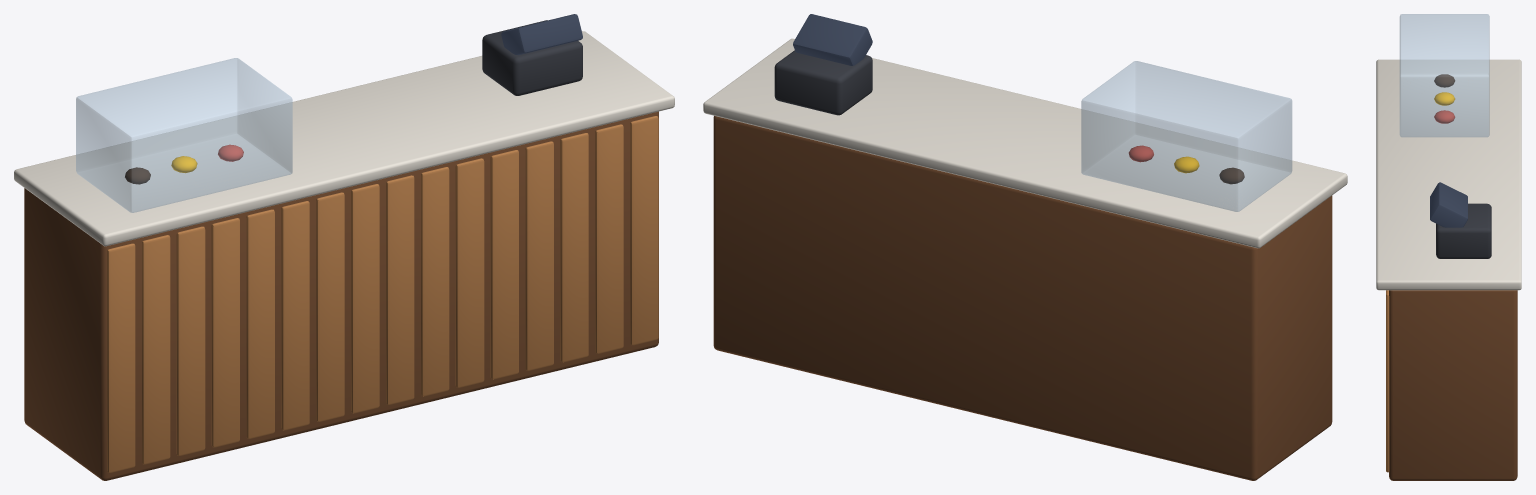
Rendered from balcao.glb.
3 views of the same model, side by side, from view 1: azimuth 30°, elevation 25°; view 2: azimuth 150°, elevation 25°; view 3: azimuth 270°, elevation 25° (orthographic). The views are drawn at different scales.
Parts seen in each view (by area): view 1: Cube.017, Cube, Cube.018, Cube.011, Cube.003, Cube.005, Cube.004, Cube.006, Cube.012, Cube.013, Cube.016, Cube.007 (+9 smaller); view 2: Cube, Cube.017, Cube.018, Cube.019, Cube.020; view 3: Cube.017, Cube, Cube.018, Cube.019, Cube.020, Cube.016, Icosphere.001, Icosphere, Icosphere.002.
Boxes of the visible parts, left/top/right/bottom form: Cube.017: left=14, top=31, right=674, bottom=246; Cube: left=24, top=111, right=658, bottom=480; Cube.018: left=76, top=58, right=292, bottom=212; Cube.011: left=455, top=158, right=484, bottom=387; Cube.003: left=176, top=226, right=205, bottom=455; Cube.005: left=246, top=209, right=274, bottom=438; Cube.004: left=211, top=218, right=239, bottom=447; Cube.006: left=281, top=201, right=309, bottom=430; Cube.012: left=490, top=150, right=518, bottom=379; Cube.013: left=525, top=141, right=553, bottom=370; Cube.016: left=630, top=116, right=658, bottom=345; Cube.007: left=316, top=192, right=344, bottom=421; Cube: left=713, top=116, right=1332, bottom=480; Cube.017: left=703, top=38, right=1347, bottom=248; Cube.018: left=1081, top=61, right=1292, bottom=211; Cube.019: left=774, top=50, right=872, bottom=115; Cube.020: left=793, top=14, right=872, bottom=65; Cube.017: left=1376, top=59, right=1521, bottom=290; Cube: left=1389, top=290, right=1517, bottom=480; Cube.018: left=1399, top=14, right=1489, bottom=137; Cube.019: left=1436, top=203, right=1491, bottom=258; Cube.020: left=1430, top=182, right=1467, bottom=227; Cube.016: left=1386, top=290, right=1389, bottom=472; Icosphere.001: left=1434, top=92, right=1454, bottom=105; Icosphere: left=1434, top=74, right=1454, bottom=87; Icosphere.002: left=1434, top=110, right=1454, bottom=123.
Size of the model in its own units: 2.46 by 1.37 by 0.68.
